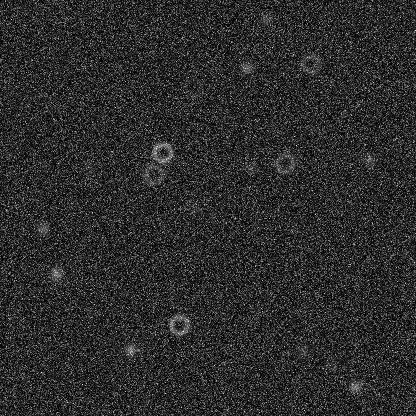Ring: (141, 162, 165, 186), (167, 312, 191, 336), (298, 51, 322, 75), (180, 76, 204, 100), (272, 151, 296, 175), (150, 140, 174, 164)
Spot: (294, 343, 310, 359), (258, 11, 274, 27), (34, 221, 50, 237), (186, 202, 202, 218), (324, 357, 340, 373), (361, 152, 377, 168), (238, 59, 254, 75), (242, 159, 258, 175), (202, 208, 218, 224), (122, 341, 138, 357), (347, 378, 363, 394), (48, 265, 64, 281), (81, 158, 97, 174)
